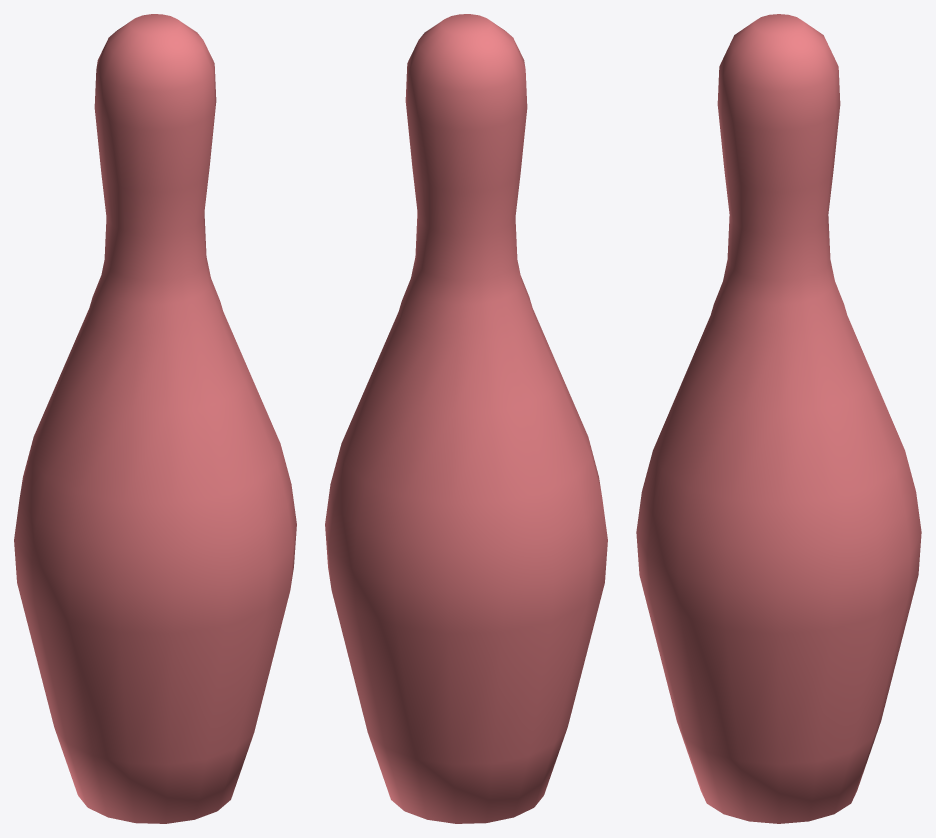
The model's file is Bowlingpins uv.fbx.
3 views of the same model, side by side, from view 1: azimuth 30°, elevation 25°; view 2: azimuth 150°, elevation 25°; view 3: azimuth 270°, elevation 25° (orthographic).
Visible parts, largest first — view 1: Vert; view 2: Vert; view 3: Vert.
Part boxes in pixels (left/top/right/bottom): Vert: left=14, top=14, right=296, bottom=823; Vert: left=325, top=14, right=607, bottom=823; Vert: left=636, top=14, right=921, bottom=823.
Size of the model in its own units: 159 by 477 by 159.
